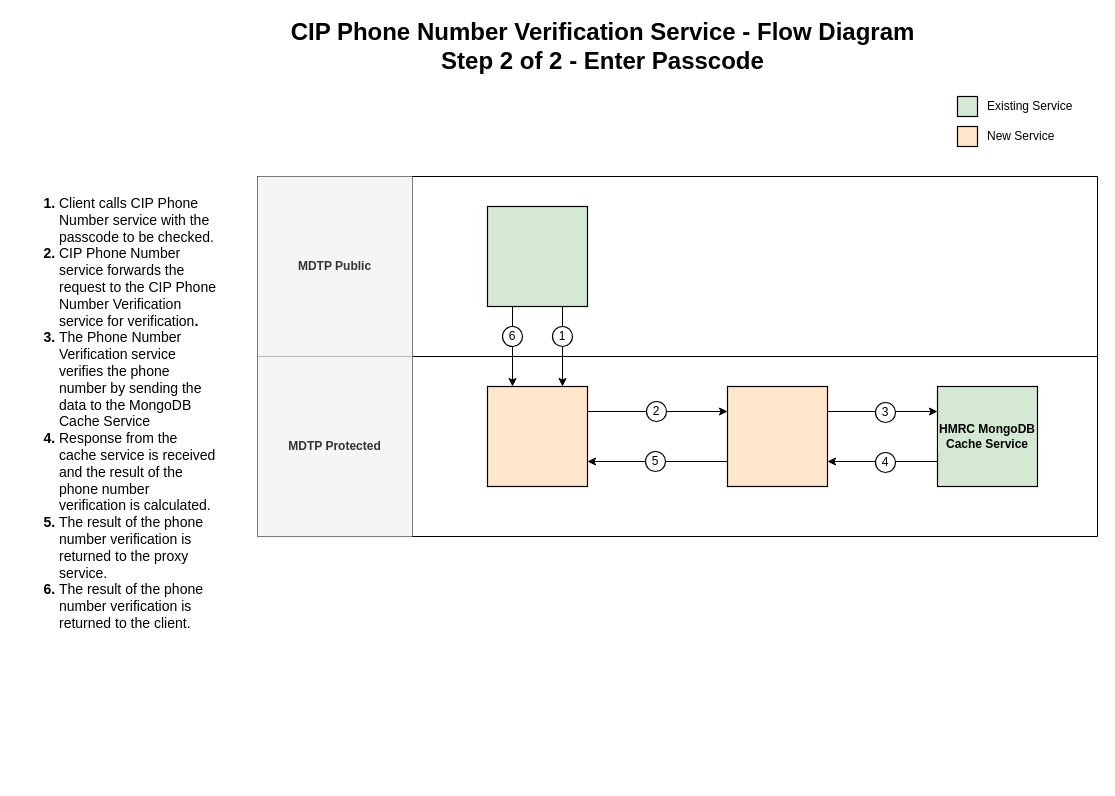
Some shapes in this 1115 by 796 pixel diagram are drawn without their labels. The shapes that lost their labels are listed below. From the top down, each one's box as (x1, y1, x2, y2) in pixels, then its label:
(486, 205, 588, 307): Client
(486, 385, 588, 487): CIP Phone Number Service
(726, 385, 828, 487): CIP Phone Number Verification Service
